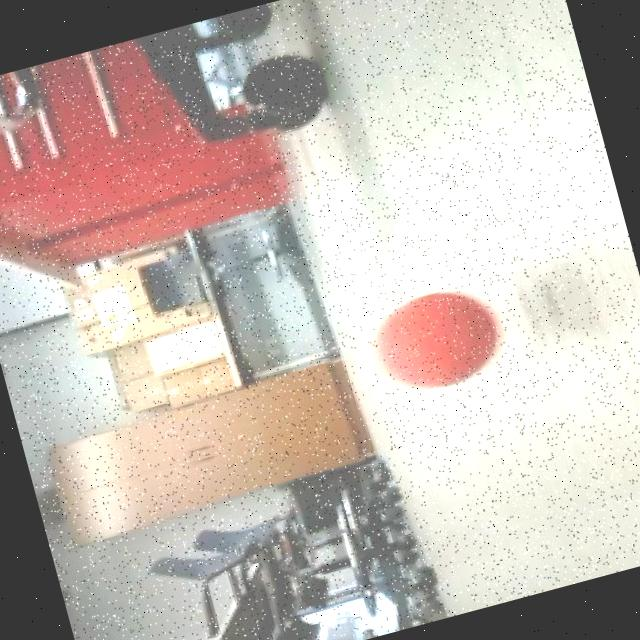ping-pong-ball: (360, 272, 521, 408)
